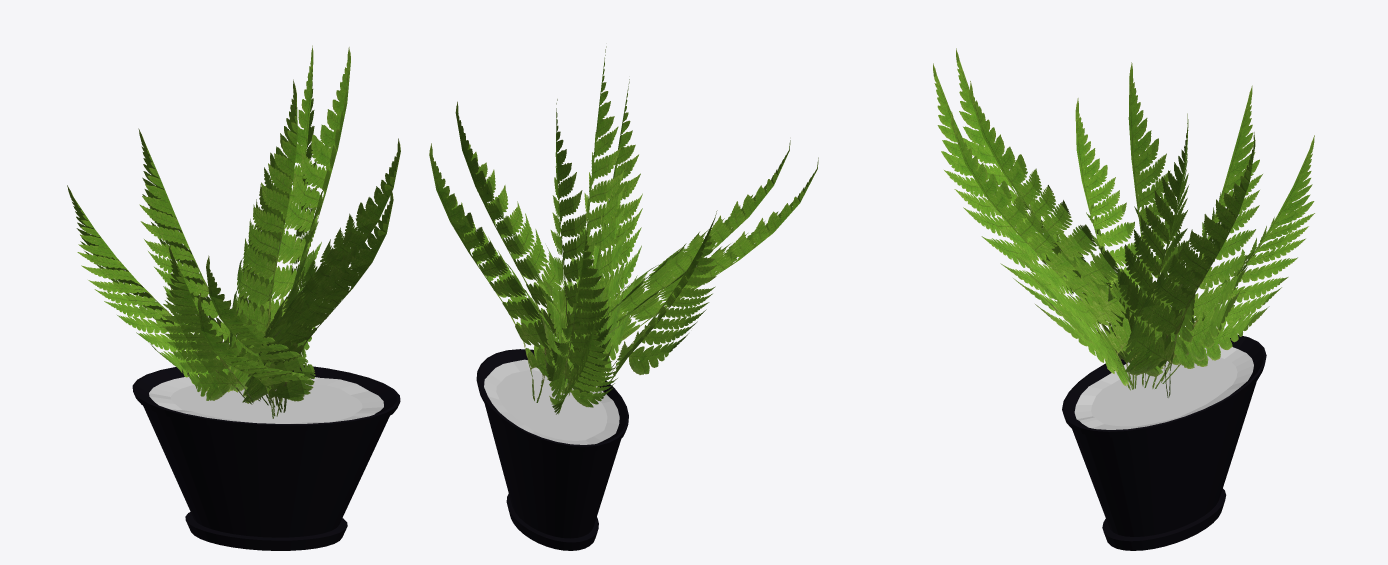
The model's file is plantamesa03.obj.
3 views of the same model, side by side, from view 1: azimuth 30°, elevation 25°; view 2: azimuth 150°, elevation 25°; view 3: azimuth 270°, elevation 25° (orthographic). The views are drawn at different scales.
Visible parts, largest first — view 1: Plano.005, Cilindro; view 2: Plano.005, Cilindro; view 3: Plano.005, Cilindro.
Boxes of the visible parts, bbox=[...] form: Plano.005: bbox=[67, 45, 400, 418]; Cilindro: bbox=[132, 365, 400, 550]; Plano.005: bbox=[429, 46, 818, 414]; Cilindro: bbox=[476, 349, 628, 550]; Plano.005: bbox=[933, 48, 1314, 397]; Cilindro: bbox=[1062, 335, 1266, 550].
Size of the model in its own units: 0.7605 by 1.2 by 1.09.
